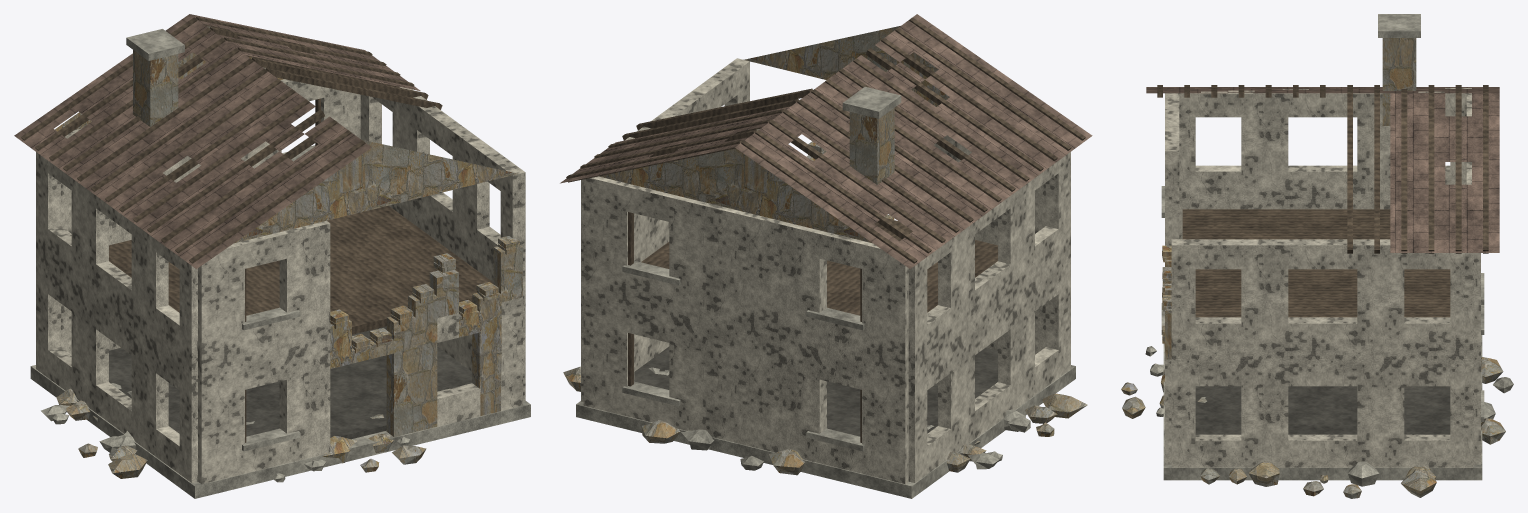
File: House_2.fbx
3 renders of one model, left to right at view 1: azimuth 30°, elevation 25°; view 2: azimuth 150°, elevation 25°; view 3: azimuth 270°, elevation 25°, orthographic. The views are drawn at different scales.
Parts seen in each view (by area): view 1: House_2; view 2: House_2; view 3: House_2.
Part boxes in pixels (left/top/right/bottom): House_2: left=14, top=14, right=530, bottom=498; House_2: left=560, top=14, right=1092, bottom=498; House_2: left=1121, top=14, right=1513, bottom=498.
Bounding box in the file's own units: 1010 × 780 × 820.
